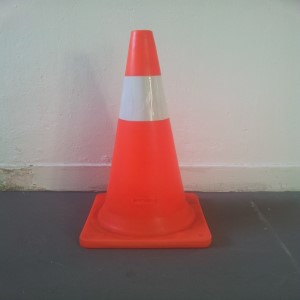traffic cone: (79, 29, 213, 247)
